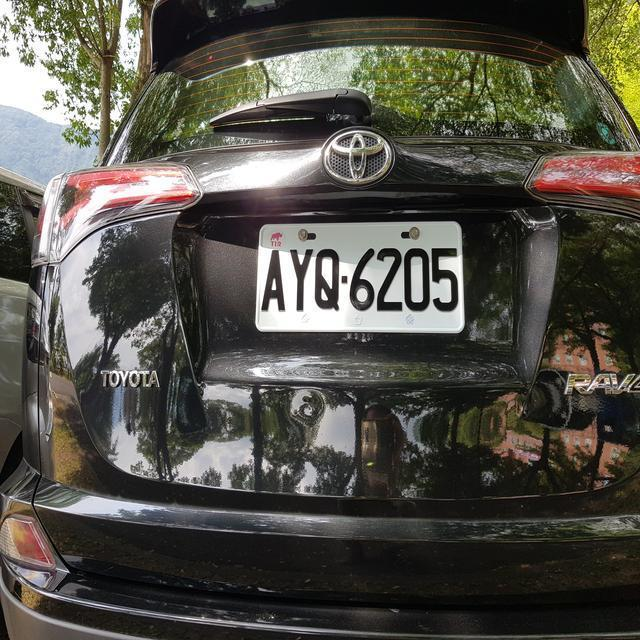plate: (255, 238, 463, 319)
